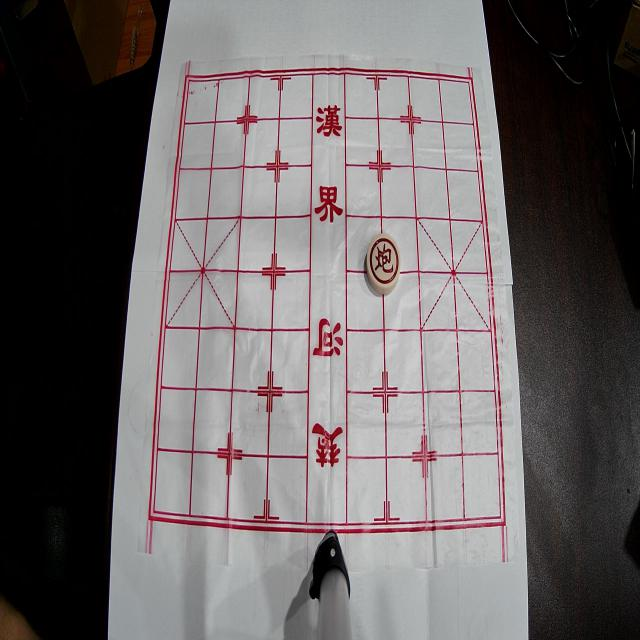red-cannon: (366, 234, 401, 294)
